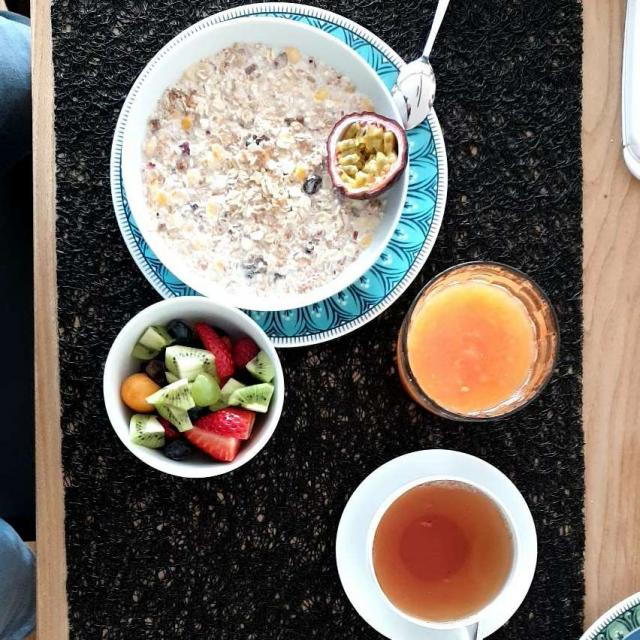fruit-salad: (120, 325, 275, 469)
juice-orange: (398, 278, 522, 411)
muesli: (154, 42, 384, 299)
tea: (377, 484, 513, 619)
